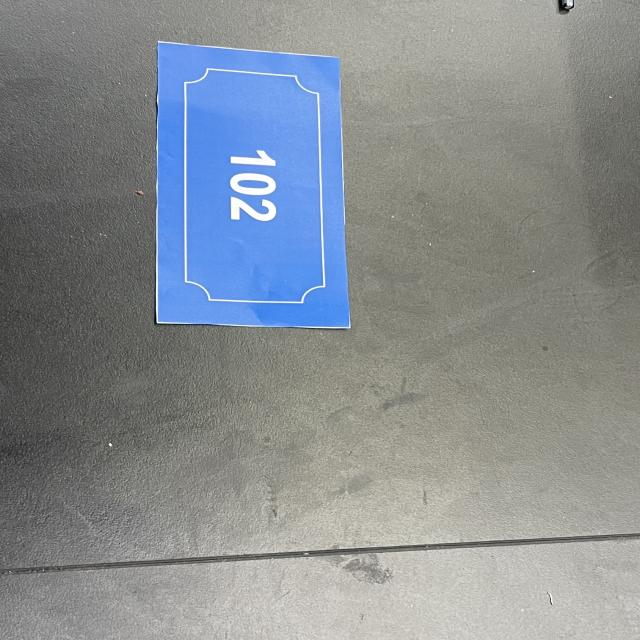Card: (126, 11, 377, 342)
